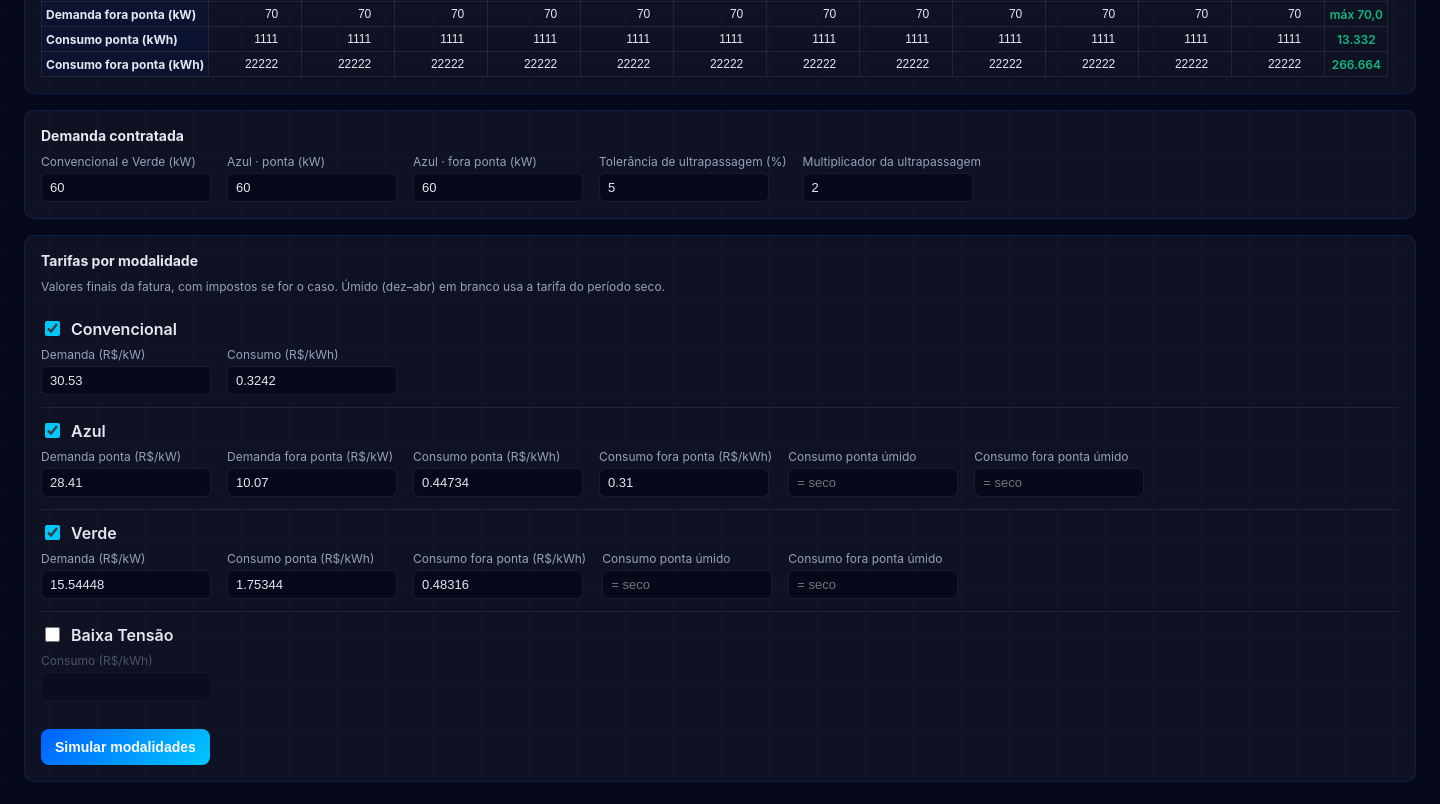
Scenario: GridPage › avisa quando a carga não tem picos e mantém as demandas do exemplo
(page scrolled)
Click the button "Simular modalidades" at (125, 747), box [41,729,210,765]
(page scrolled)
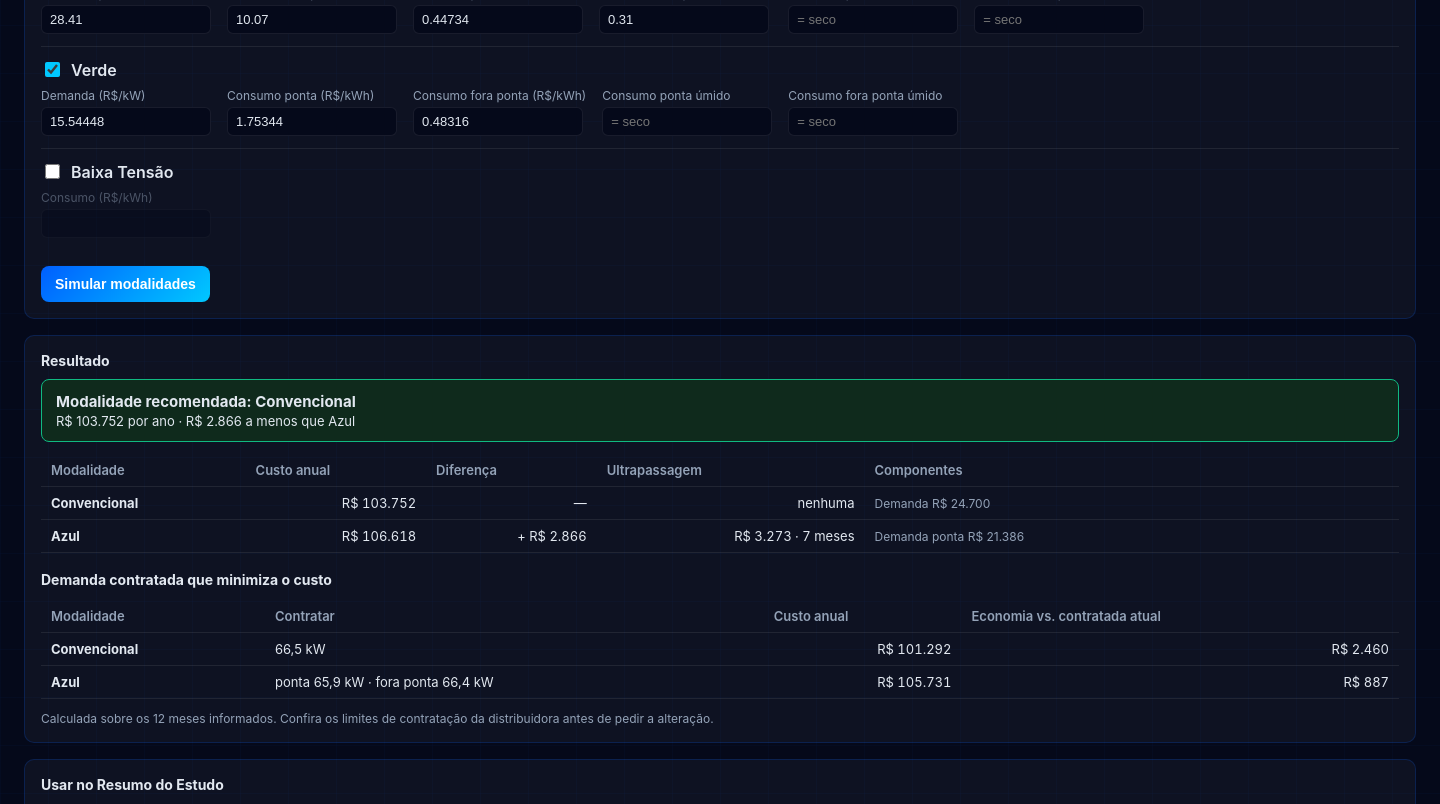
Check: the text "Modalidade recomendada: Convencional" is shown, box [56,392,356,411]
